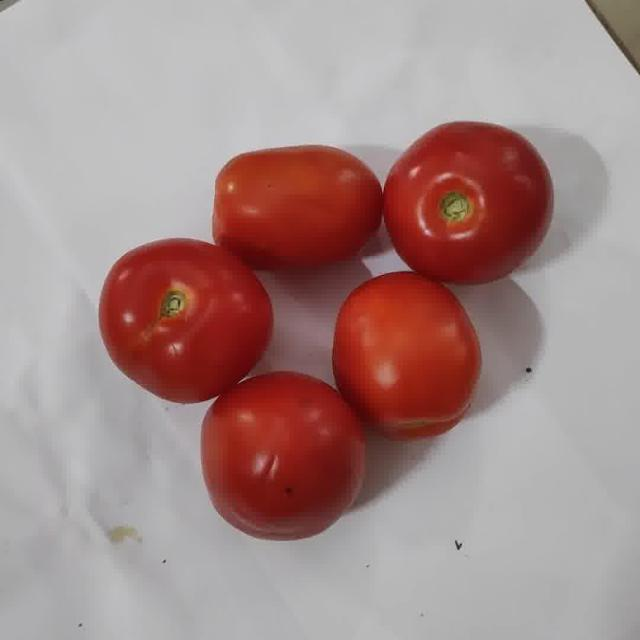Tomato: (100, 239, 273, 403), (201, 372, 364, 539), (383, 122, 552, 283), (332, 272, 481, 439), (212, 145, 382, 270)
